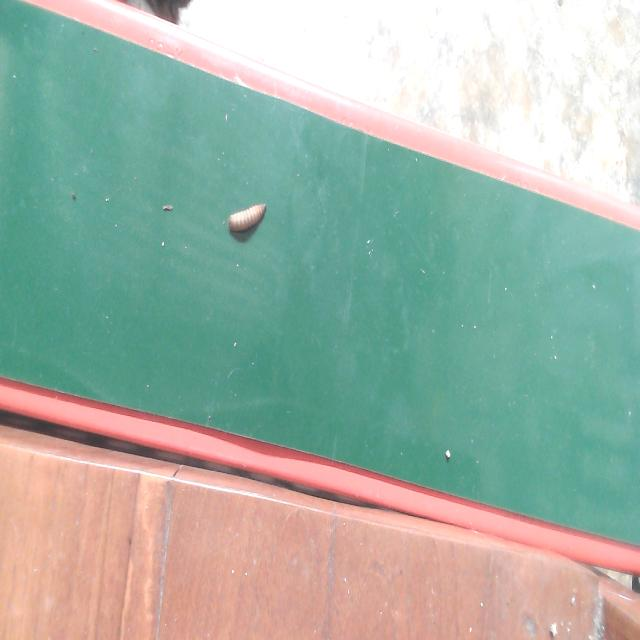Maggot: (227, 203, 268, 242)
